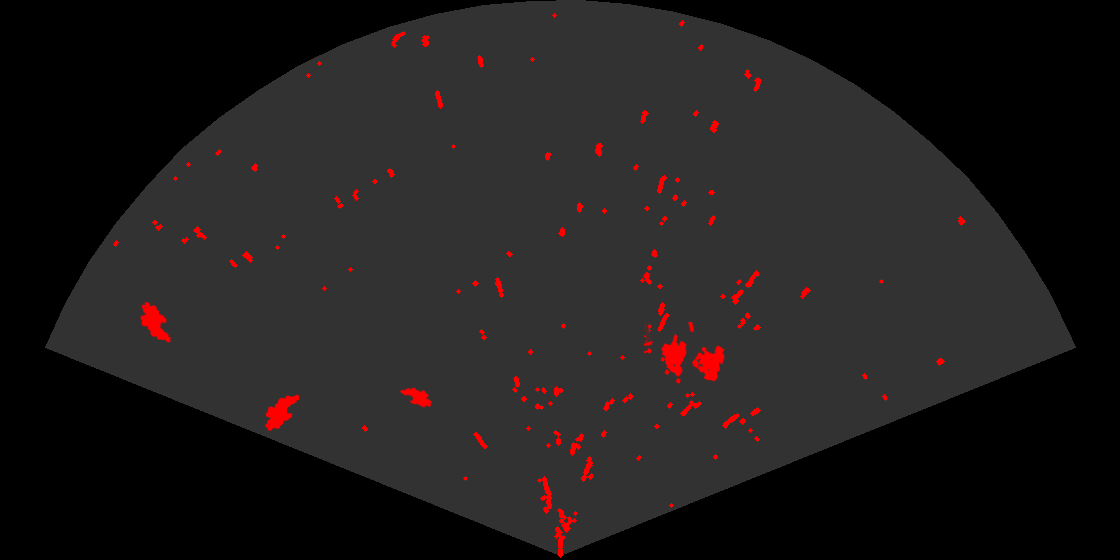AUV: (264, 393, 301, 433), (139, 301, 172, 344), (398, 386, 434, 409)
cage: (644, 322, 726, 385)
